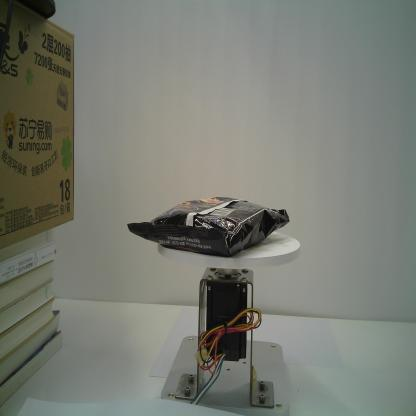Instant Noodles: (126, 193, 292, 258)
